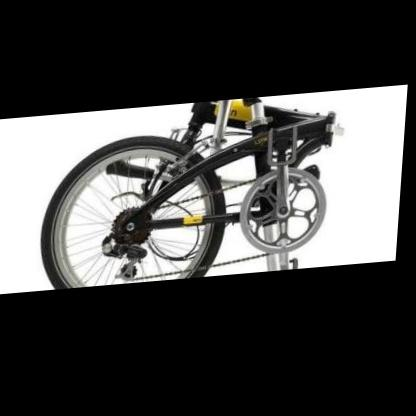Bicycle: (31, 104, 390, 280)
